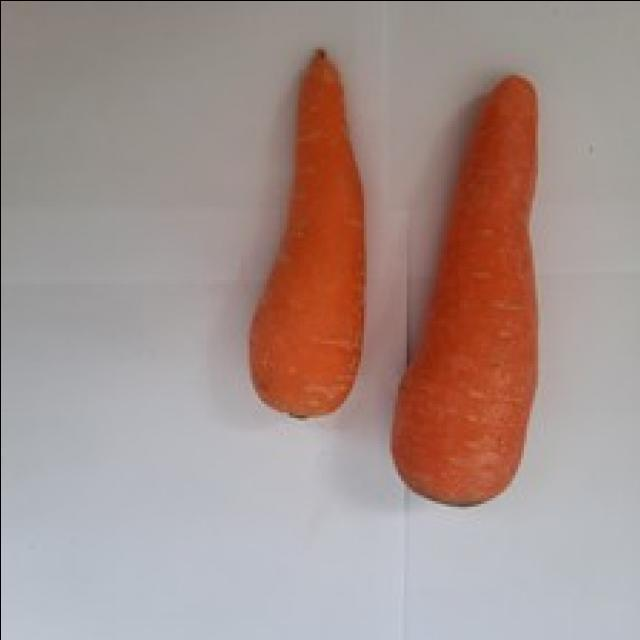carrot: (392, 75, 538, 506), (250, 50, 364, 418)
